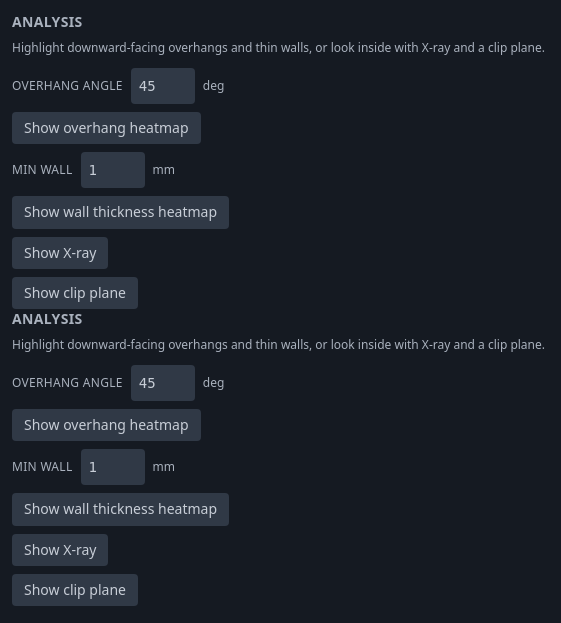
AnalysisSection › keeps threshold fields in sync across responsive panels without losing decimal drafts
Replace the text in the 1st field named "Overhang angle" with "30": {"x": 163, "y": 86} [131,68,195,104]
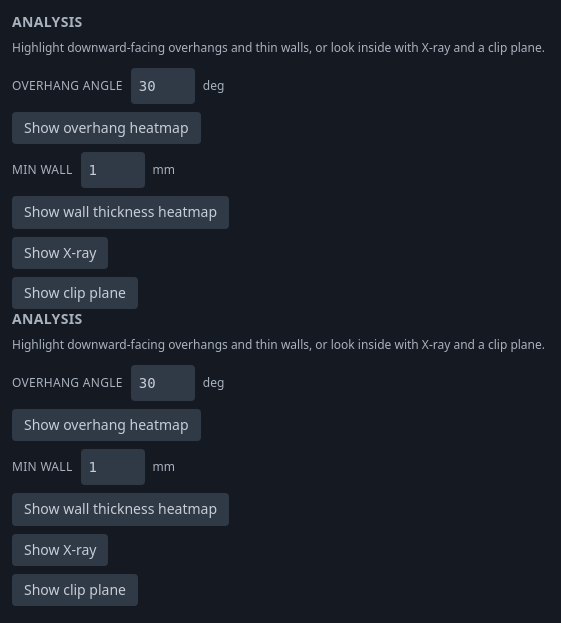
Expected: the 2nd field named "Overhang angle" holds "30", [131,365,195,401]
Replace the text in the 1st field named "Min wall" with "2.": {"x": 112, "y": 170} [80,152,144,188]
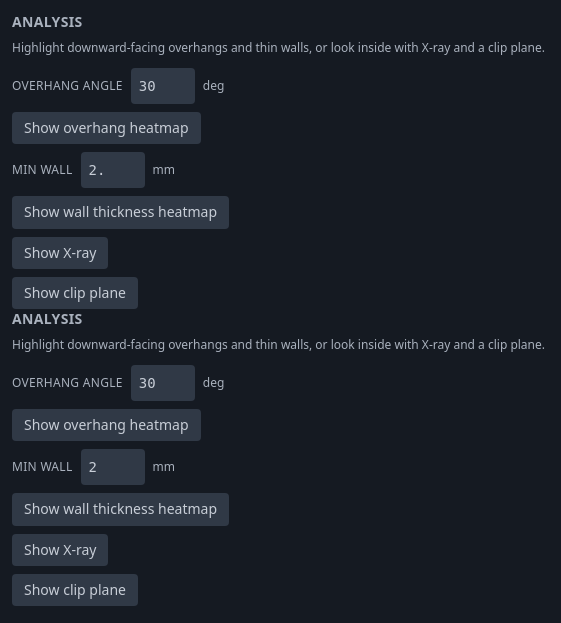
Expected: the 2nd field named "Min wall" holds "2", [80,450,144,486]
